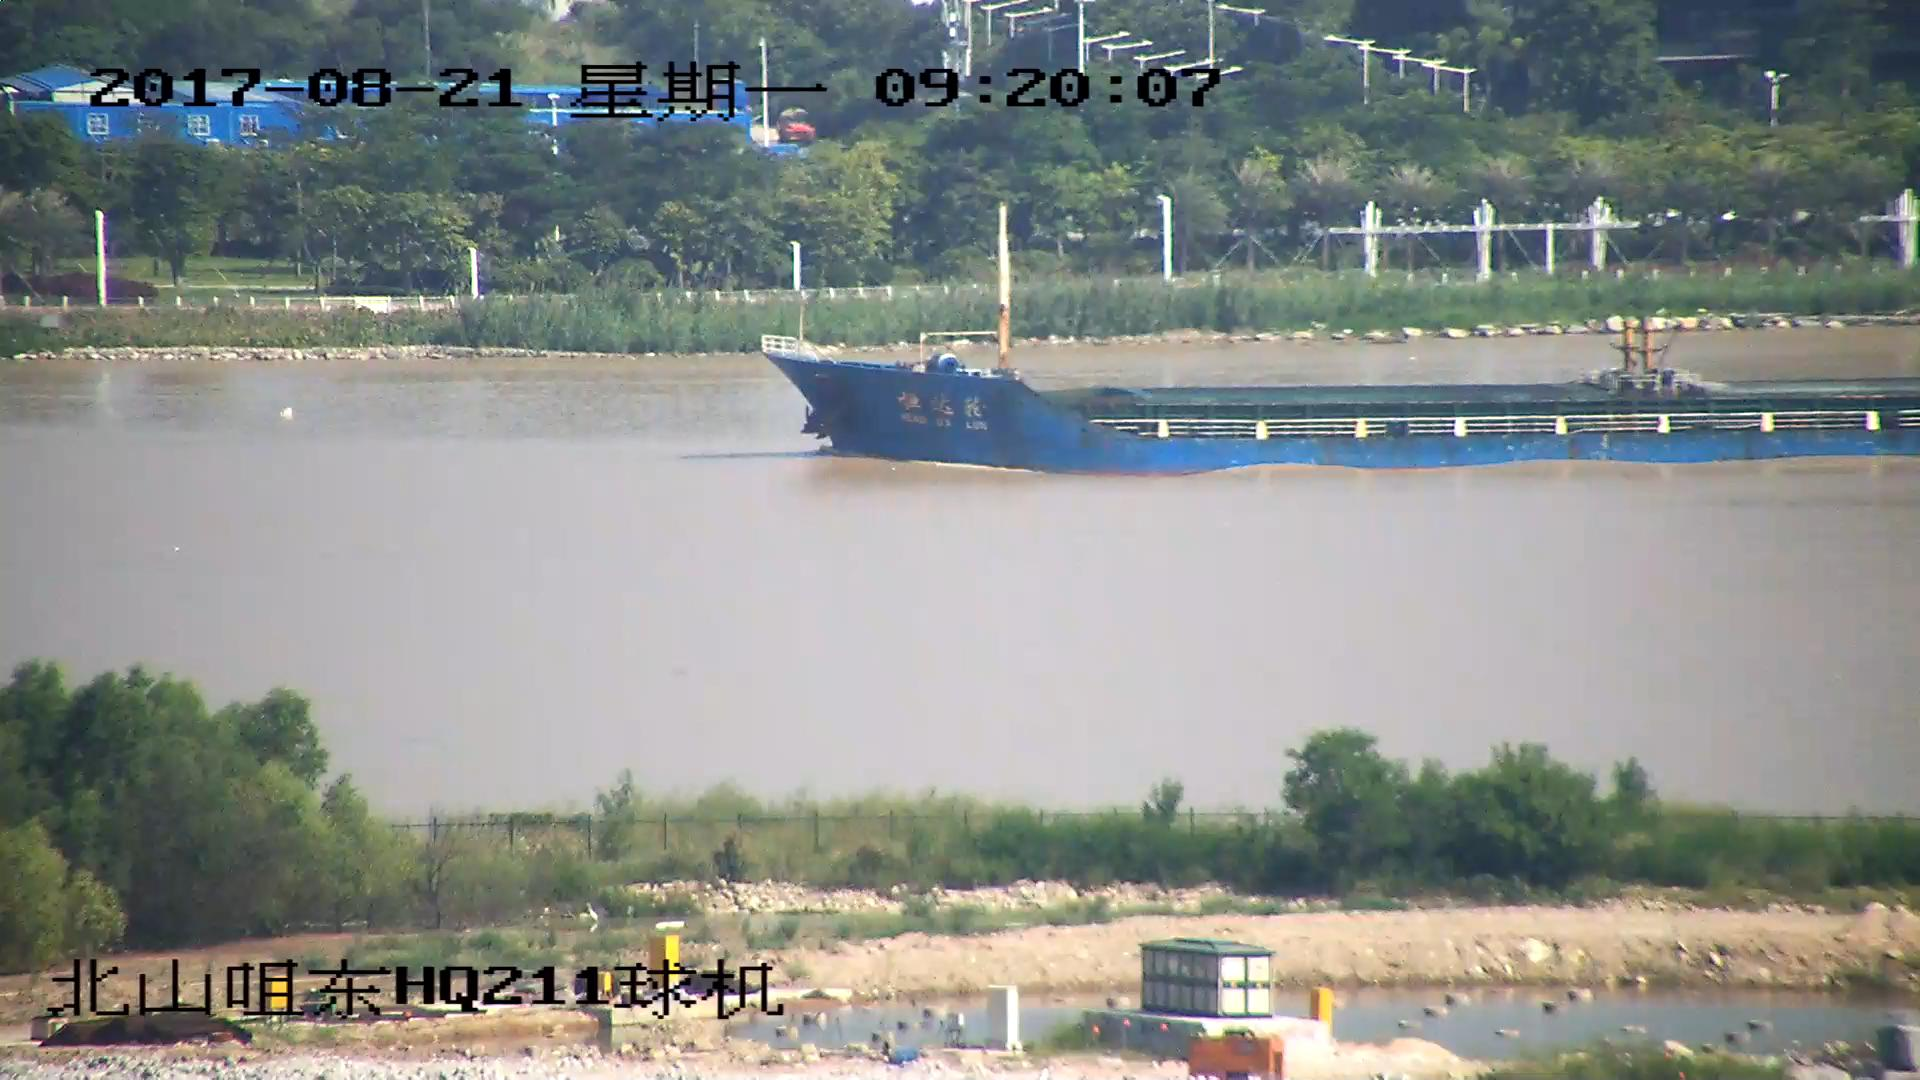general cargo ship: (759, 209, 1920, 478)
